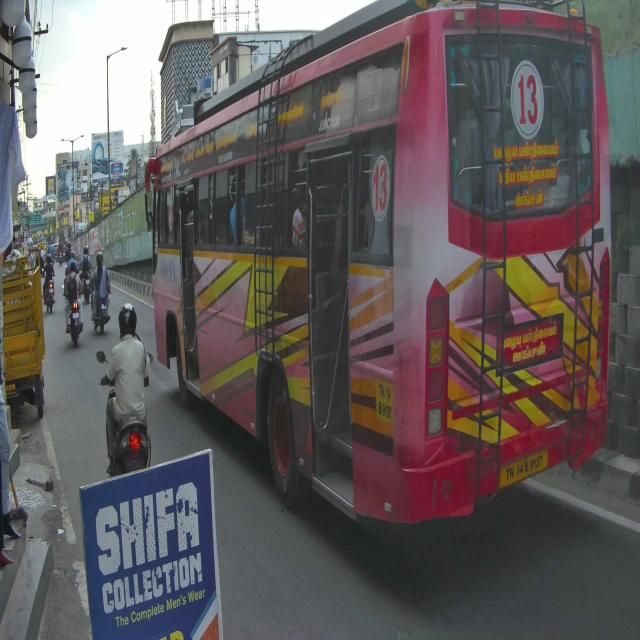single_rider: (96, 305, 157, 480)
